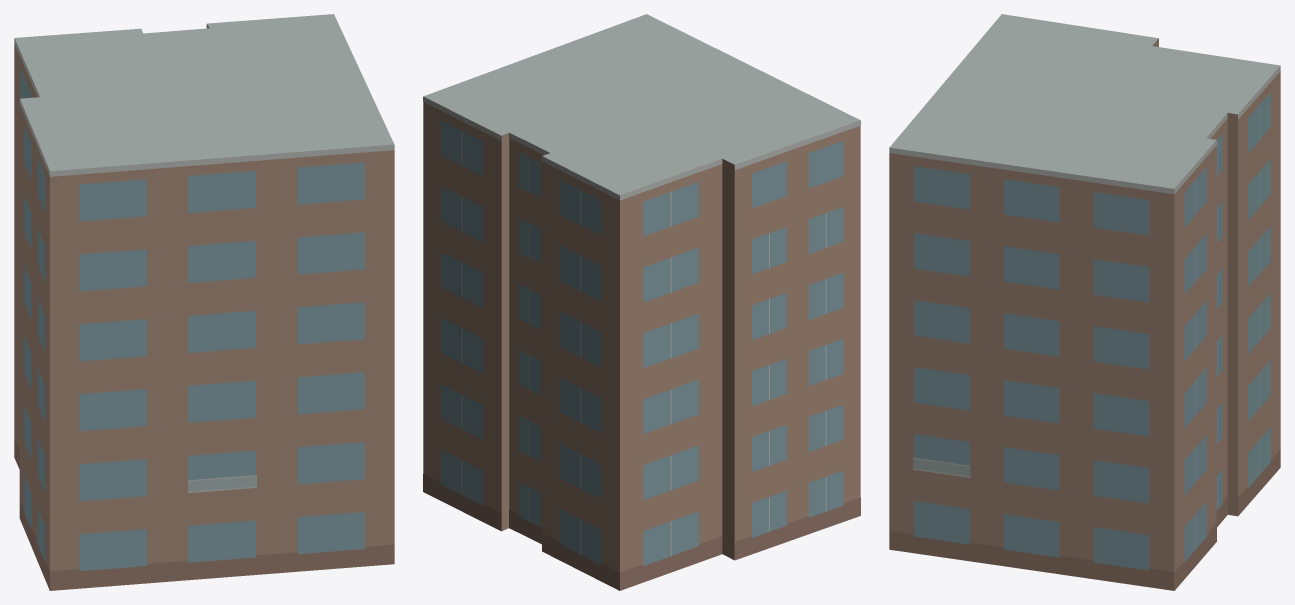
The model's file is survey-upis-32851835.glb.
The picture shows the model from 3 angles, left to right: view 1: azimuth 30°, elevation 25°; view 2: azimuth 150°, elevation 25°; view 3: azimuth 270°, elevation 25°; orthographic projection. The views are drawn at different scales.
Visible parts, largest first — view 1: survey-upis-32851835.tmp; view 2: survey-upis-32851835.tmp; view 3: survey-upis-32851835.tmp.
Part boxes in pixels (x1,y1,x2,y2): survey-upis-32851835.tmp: (14, 14, 394, 590); survey-upis-32851835.tmp: (423, 14, 860, 590); survey-upis-32851835.tmp: (889, 14, 1280, 590).
Bounding box in the file's own units: 17.09 × 18.3 × 16.16.
